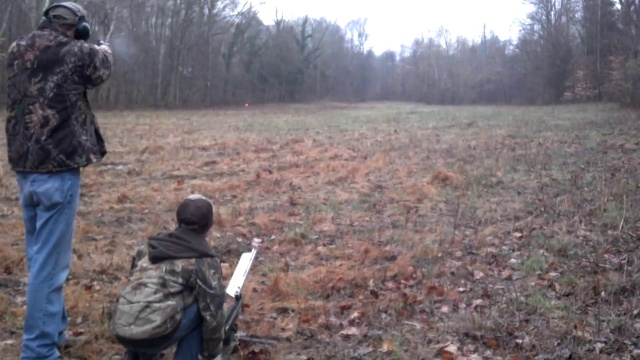person: (9, 0, 114, 355), (111, 190, 232, 356)
